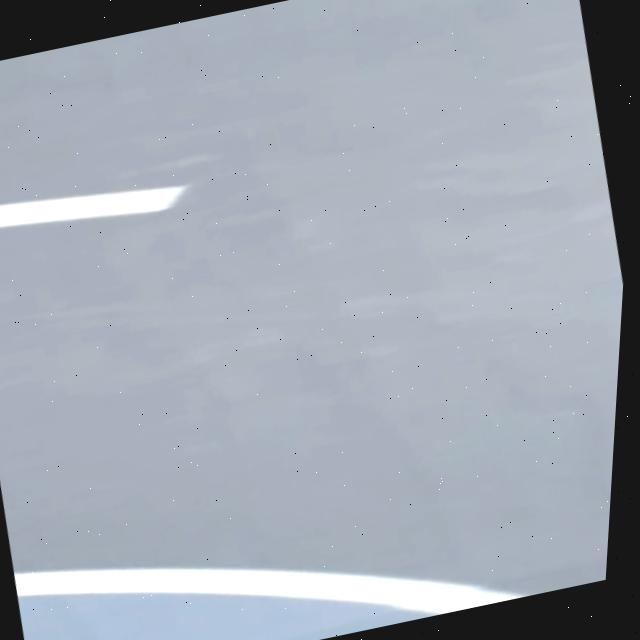center: (0, 186, 185, 228)
left: (13, 569, 526, 614)
